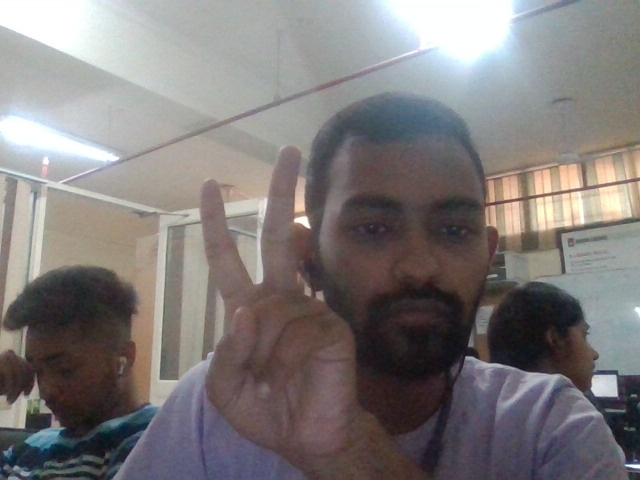ThankYou: (198, 143, 360, 470)
